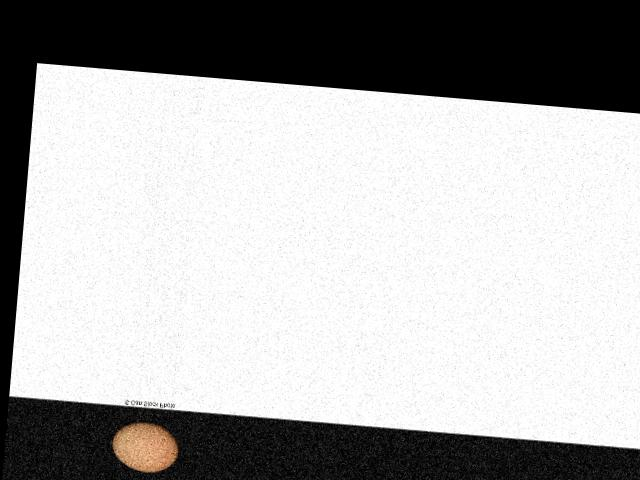egg: (110, 418, 180, 474)
